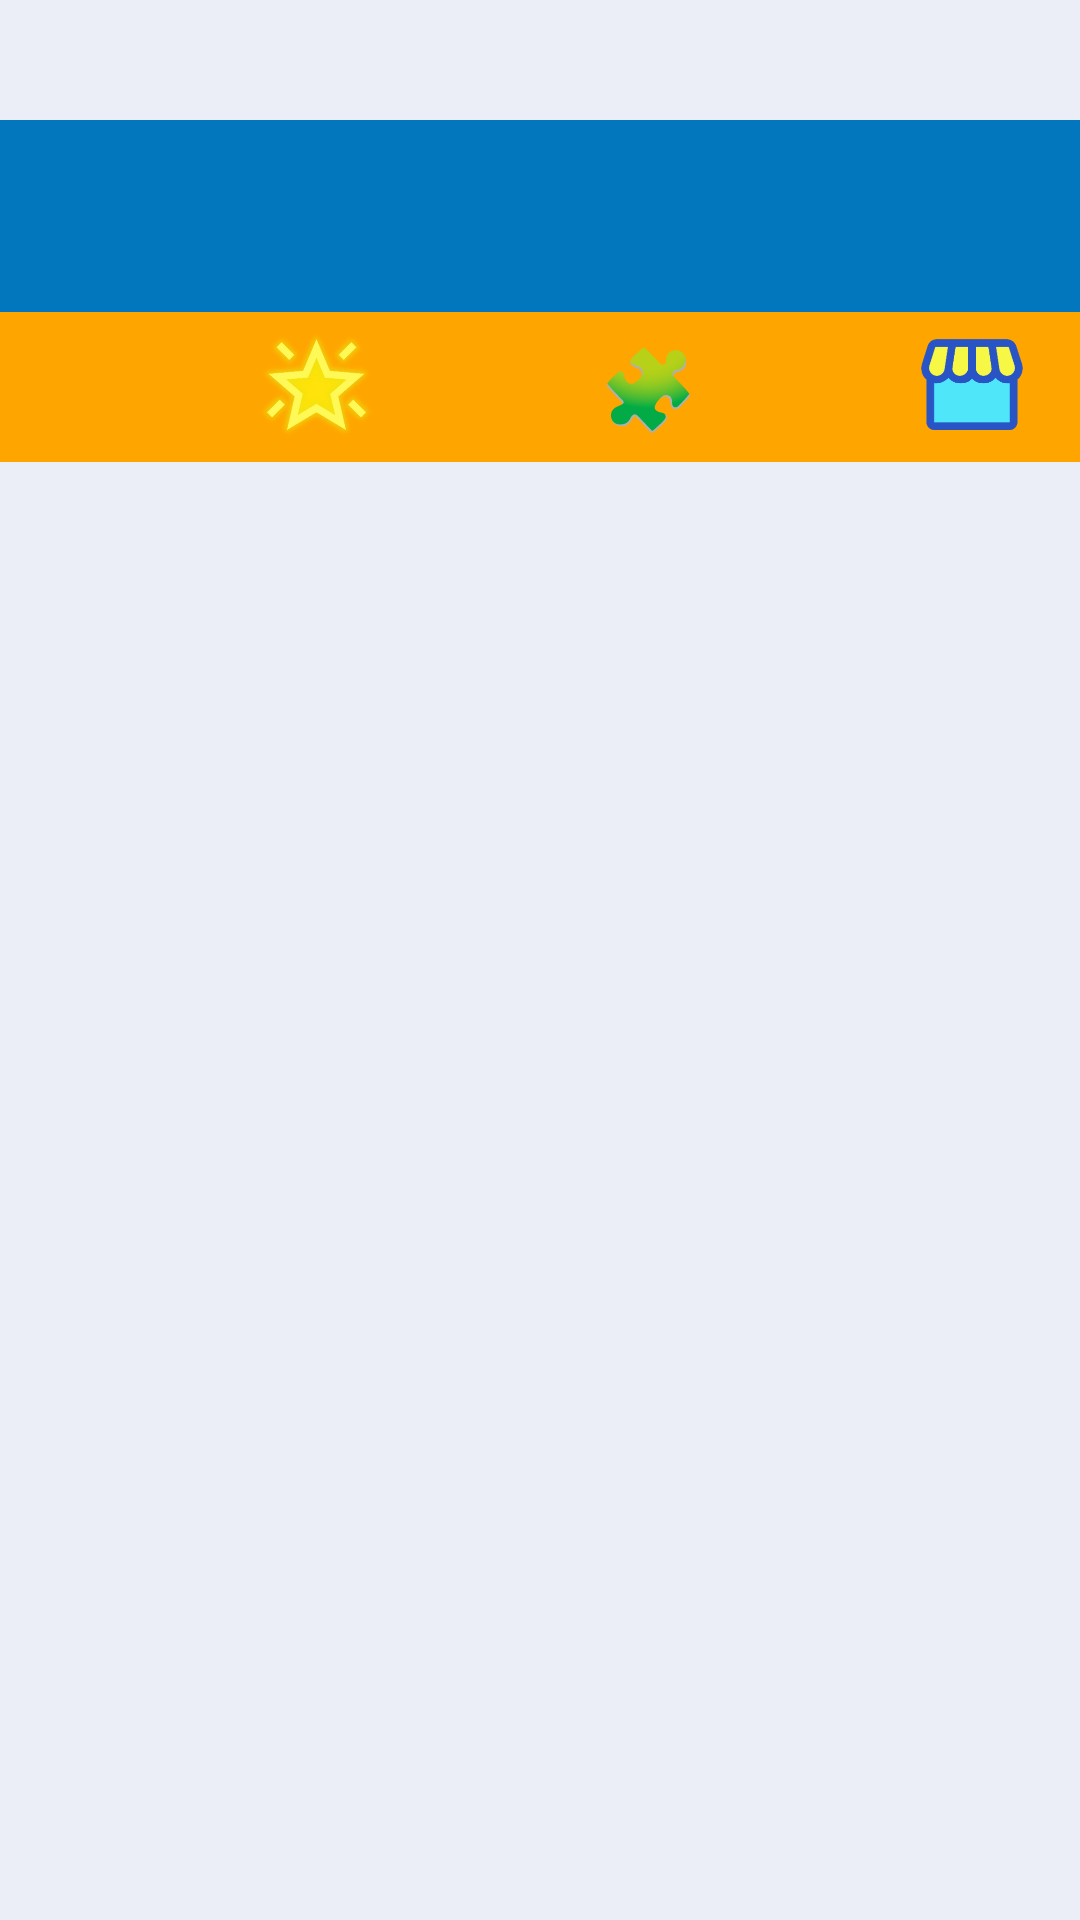

Where icons sit on this 1080w x 1920h app screen, as region(x1, y1, x2, y2):
shop: region(921, 339, 1023, 430)
star: region(266, 339, 366, 430)
